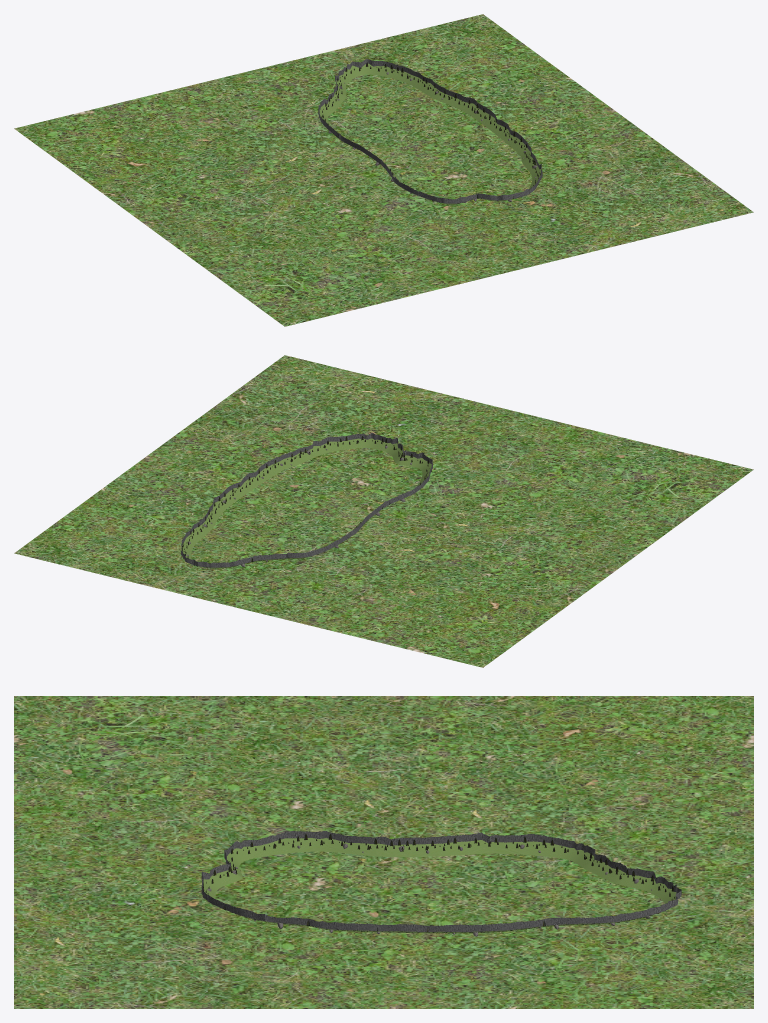
The picture shows the model from 3 angles, top to bottom: view 1: azimuth 30°, elevation 25°; view 2: azimuth 150°, elevation 25°; view 3: azimuth 270°, elevation 25°; orthographic projection. The views are drawn at different scales.
Parts seen in each view (by area): view 1: Plane, Wall_08, Wall_09, Wall_00, Wall_01, Wall_07; view 2: Plane, Wall_02, Wall_01, Wall_00, Wall_03, Wall_09; view 3: Plane, Wall_04, Wall_06, Wall_05, Wall_07, Wall_03, Wall_00, Wall_08, Wall_09, Wall_01, Wall_02.
Boxes of the visible parts, x1=… form: Plane: x1=14, y1=14, x2=753, y2=326; Wall_08: x1=346, y1=59, x2=427, y2=89; Wall_09: x1=420, y1=78, x2=477, y2=114; Wall_00: x1=470, y1=103, x2=516, y2=143; Wall_01: x1=508, y1=132, x2=541, y2=174; Wall_07: x1=327, y1=67, x2=353, y2=109; Plane: x1=14, y1=355, x2=753, y2=667; Wall_02: x1=313, y1=432, x2=401, y2=455; Wall_01: x1=260, y1=443, x2=319, y2=479; Wall_00: x1=219, y1=467, x2=267, y2=507; Wall_03: x1=392, y1=445, x2=432, y2=482; Wall_09: x1=192, y1=496, x2=227, y2=538; Plane: x1=14, y1=696, x2=753, y2=1008; Wall_04: x1=275, y1=831, x2=385, y2=856; Wall_06: x1=489, y1=834, x2=595, y2=869; Wall_05: x1=384, y1=832, x2=489, y2=856; Wall_07: x1=586, y1=854, x2=673, y2=899; Wall_03: x1=213, y1=835, x2=278, y2=886; Wall_00: x1=373, y1=924, x2=480, y2=933; Wall_08: x1=584, y1=885, x2=681, y2=924; Wall_09: x1=480, y1=917, x2=585, y2=932; Wall_01: x1=265, y1=914, x2=373, y2=932; Wall_02: x1=201, y1=869, x2=268, y2=922.
Bounding box in the file's own units: 1400 × 34.37 × 1400.
